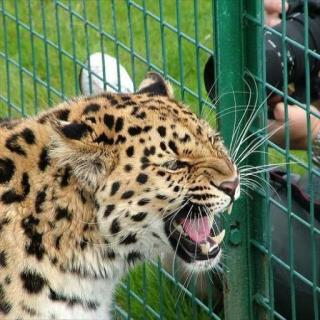Leopard: (0, 71, 242, 319)
